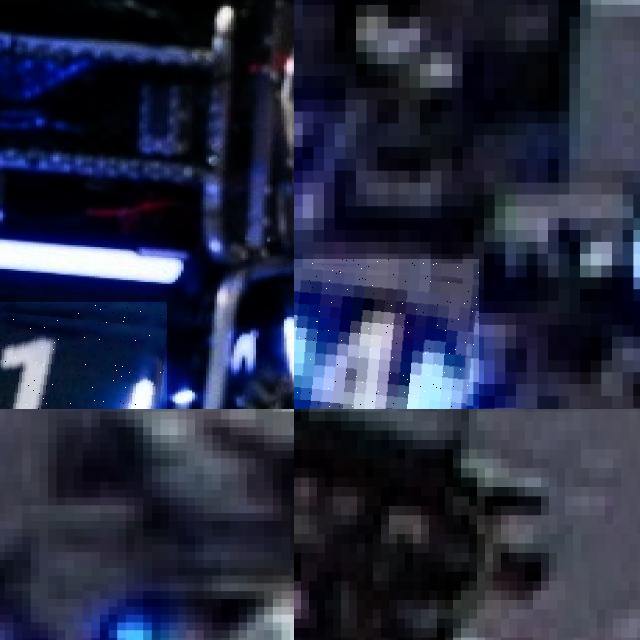B1: (0, 302, 167, 409)
B4: (294, 259, 478, 409)
